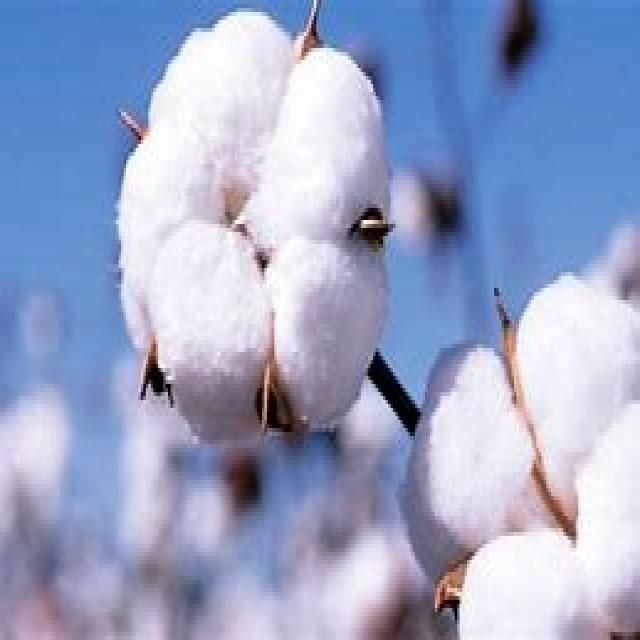Matured Cotton Boll: (115, 7, 393, 441), (398, 260, 640, 640)
